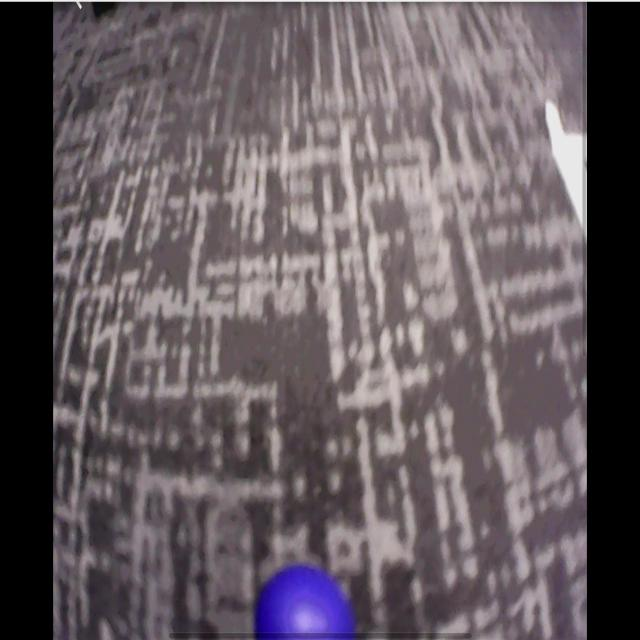ball: (255, 564, 351, 639)
